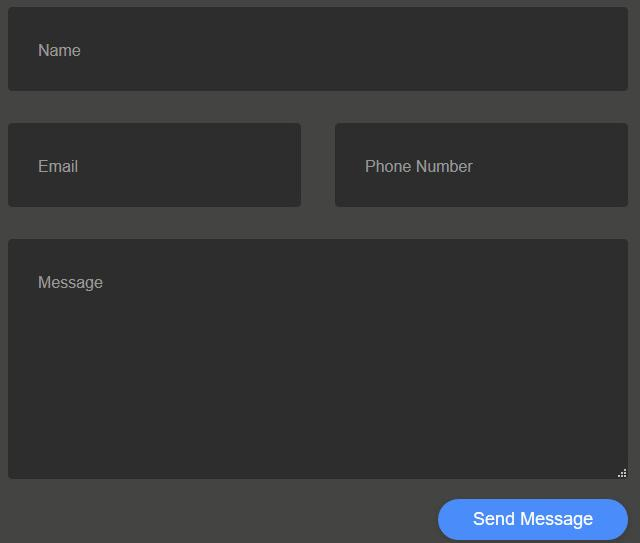button: (438, 497, 630, 543)
field: (6, 237, 630, 480), (8, 7, 630, 93), (6, 121, 302, 209), (335, 123, 631, 207)
